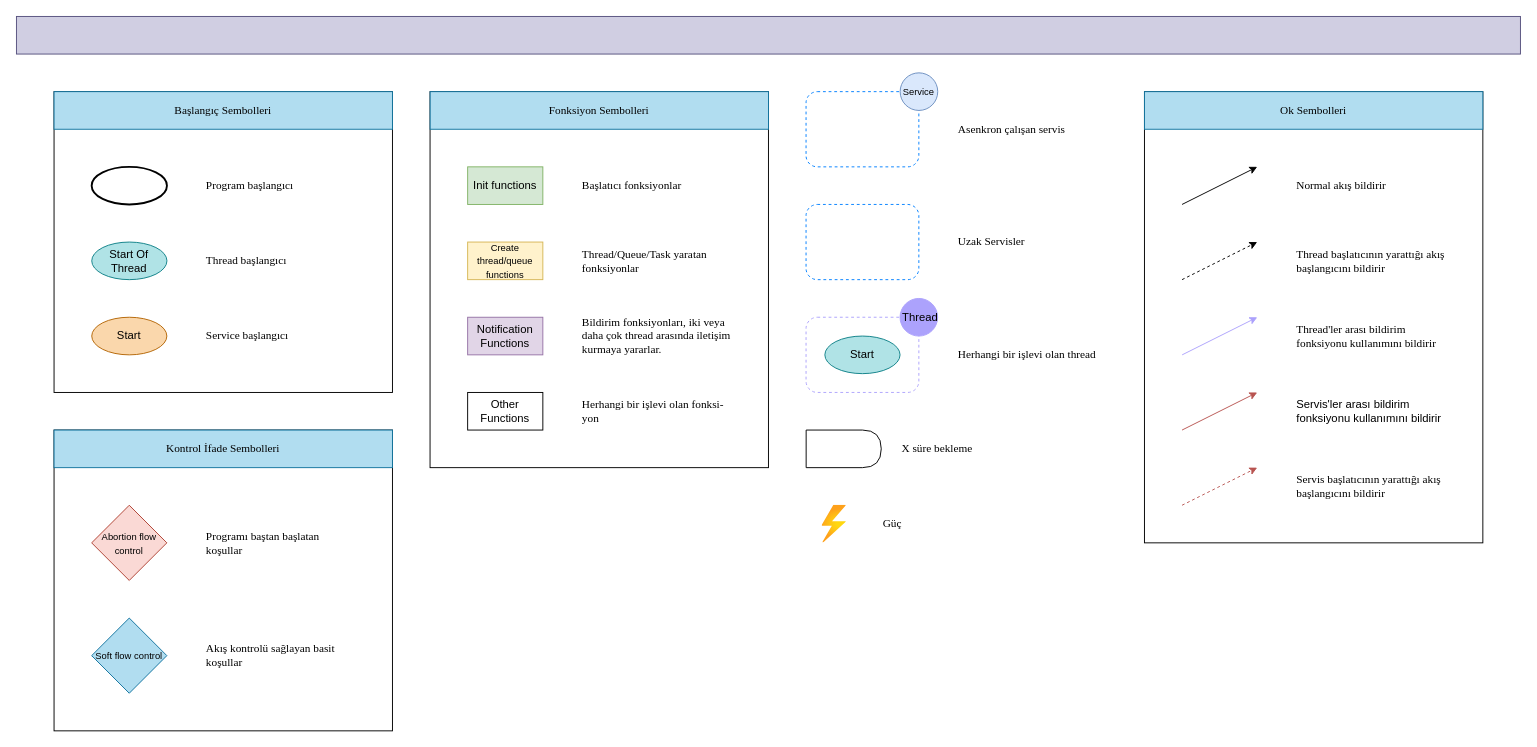
The diagram is 1537 pixels wide and 747 high, and some of its shapes have lost their labels. The centre of each missing label's shape, as x and y in pixels:
Akış Şeması Sembolleri: (768,35)
Delay x: (843,448)
Power: (834,523)
Start Of Program: (128,185)
